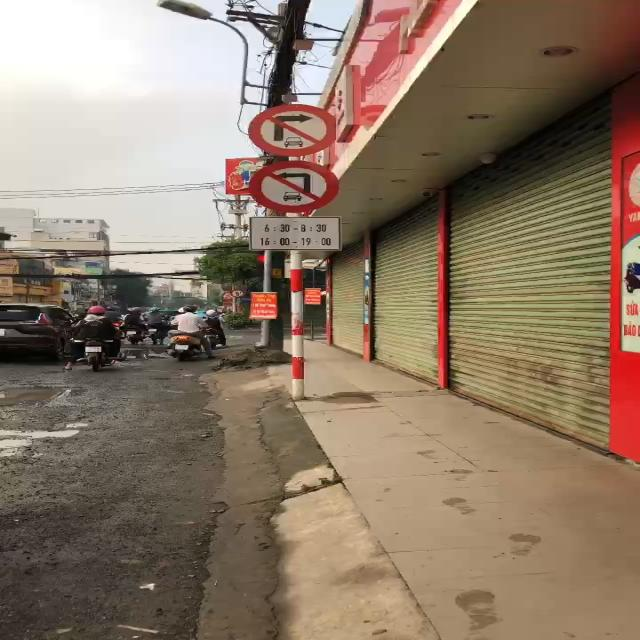Bien bao cam xe o to re phai: (245, 104, 349, 156)
Bien bao cam xe o to re trai: (244, 156, 356, 217)
